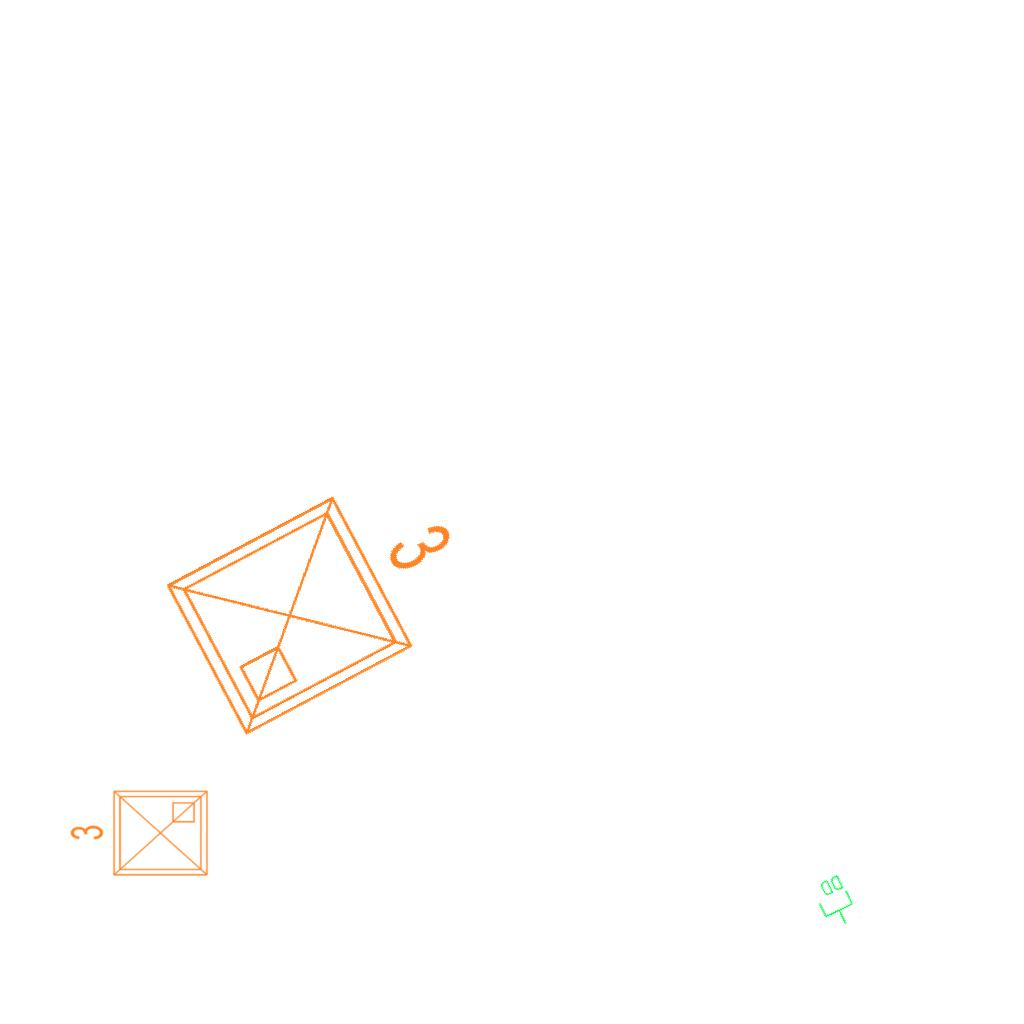Datenanschluss_zweifach: (809, 871, 862, 933)
Einbaudownlights_LED_Konferenzraeume: (142, 430, 506, 756), (65, 783, 215, 887)
